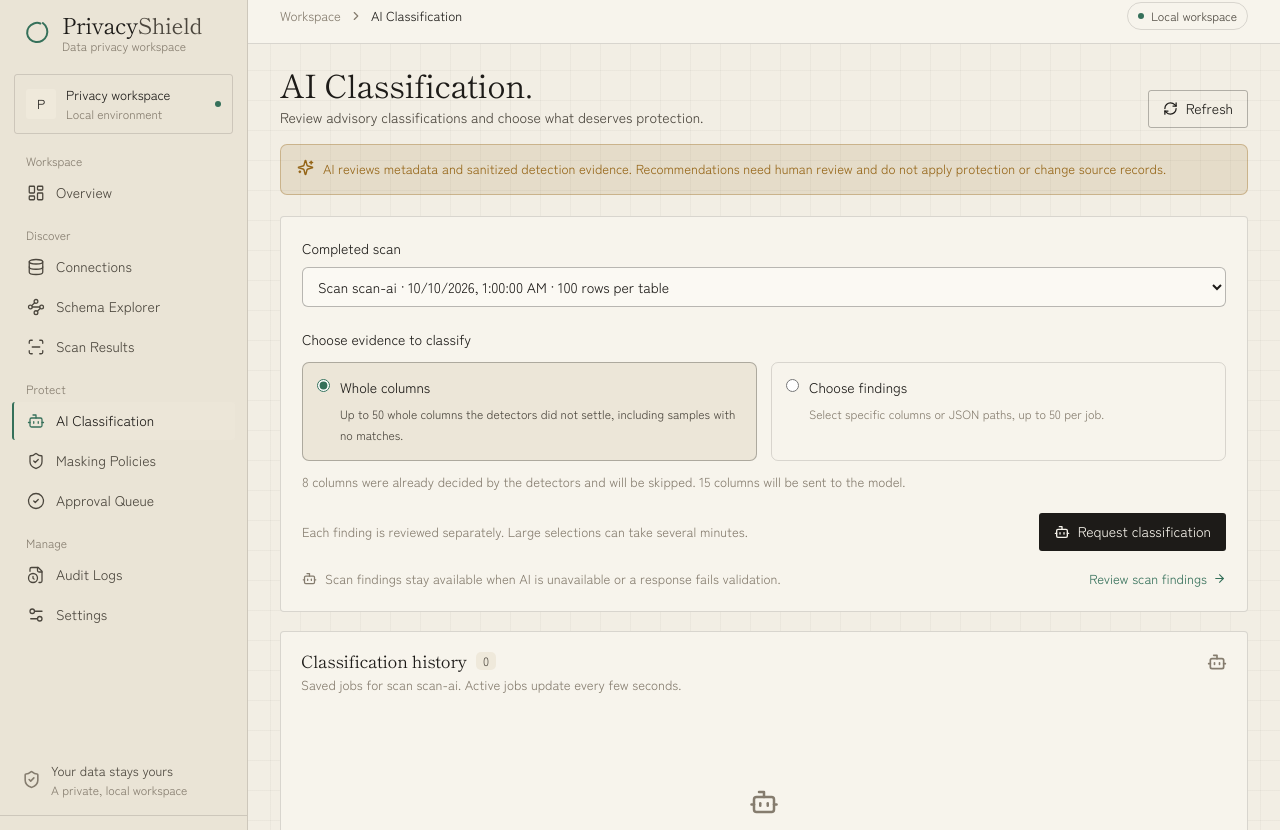
advisory AI classification › lets an analyst select a finding and requests classification with CSRF
This screenshot has width=1280, height=830.
Step 1. Click the radio button labelled "Choose findings" → (792, 385), box [786,378,799,392]
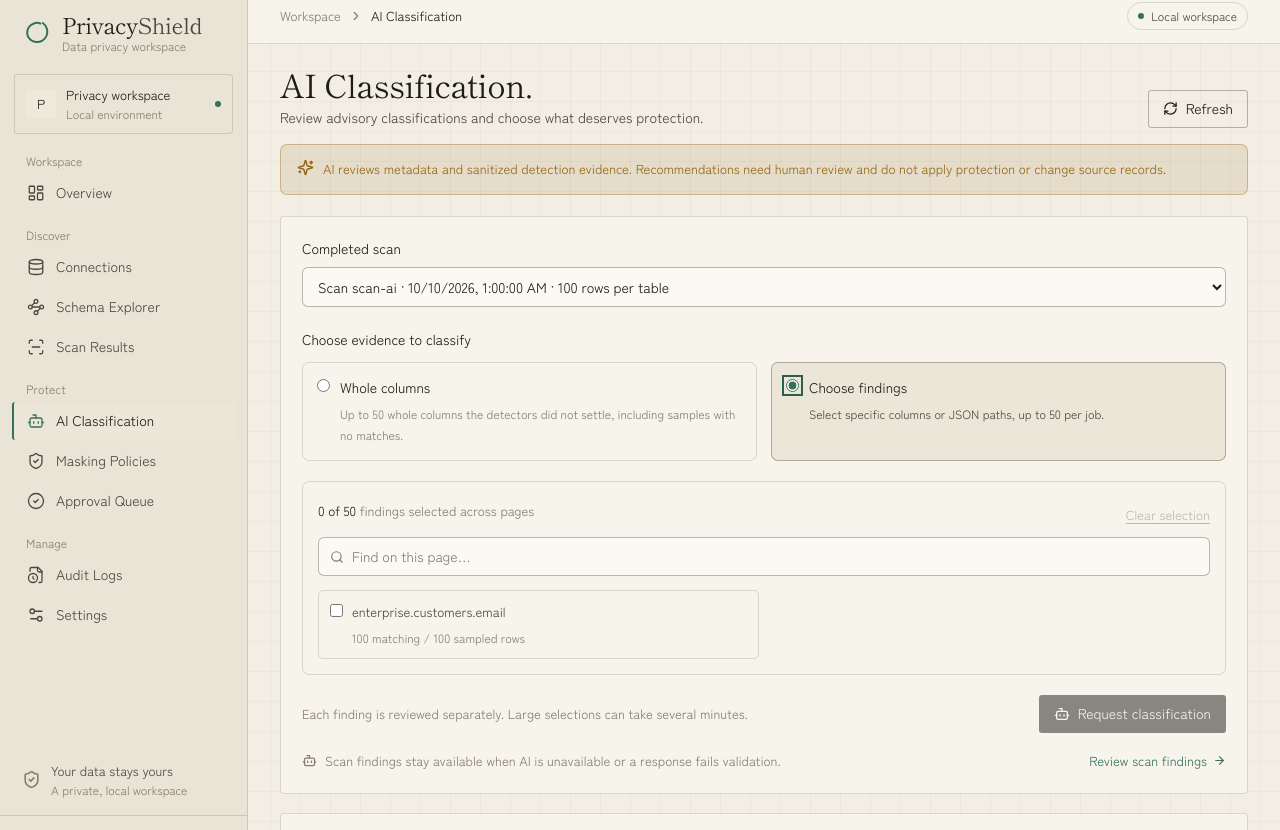
Check: the button "Request classification" is disabled, box [1039,695,1226,733]
Step 2. Click the checkbox labelled "enterprise.customers.email 100 matching / 100 sampled rows" → (336, 611), box [330,604,343,617]
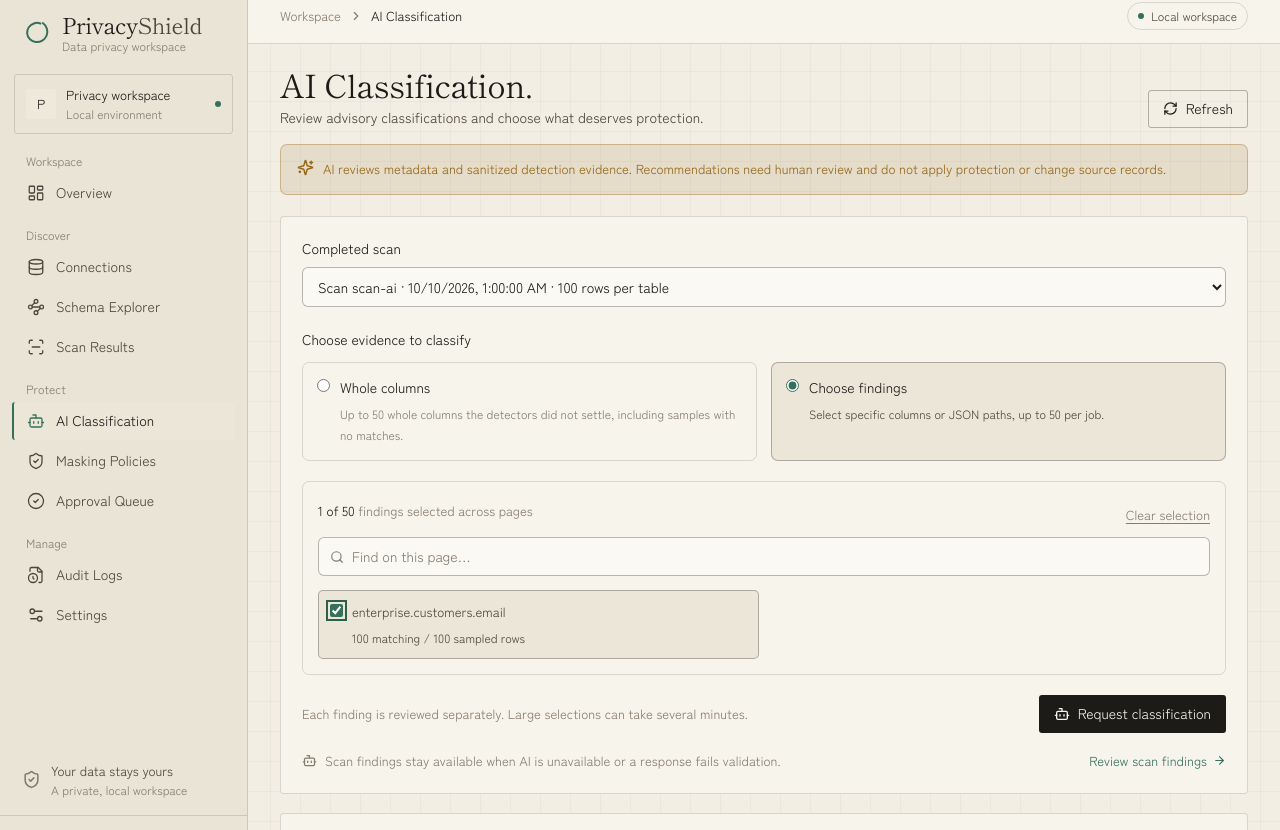
Step 3. Click the button "Request classification" → (1132, 714), box [1039,695,1226,733]
(page scrolled)
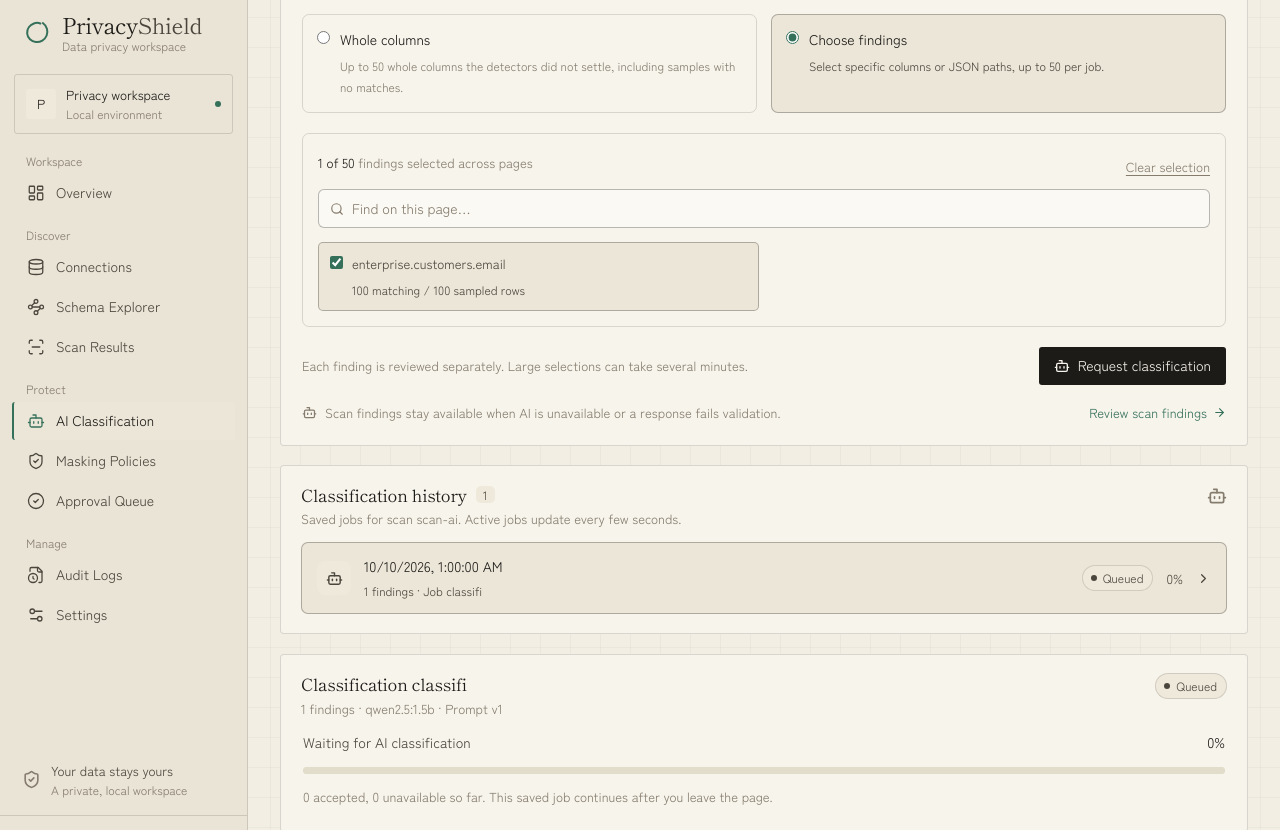
Check: the text "Waiting for AI classification" is shown, box [303,732,471,753]
